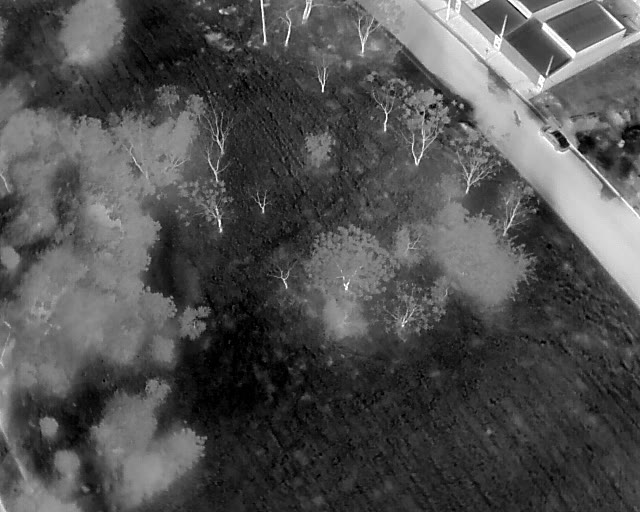car: (539, 124, 570, 152)
